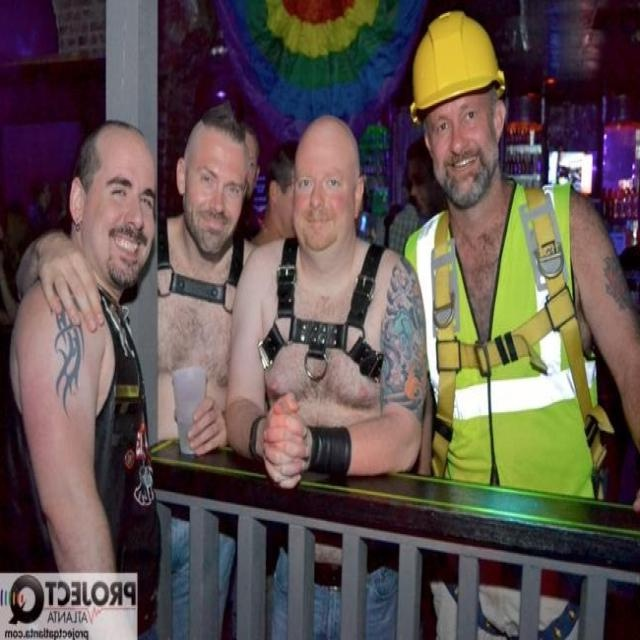Con_Casco: (409, 11, 507, 202)
Con_Chaleco: (406, 198, 593, 486)
Sin_Casco_Mascarrilla: (76, 123, 158, 285), (175, 103, 246, 253), (291, 115, 360, 251)
